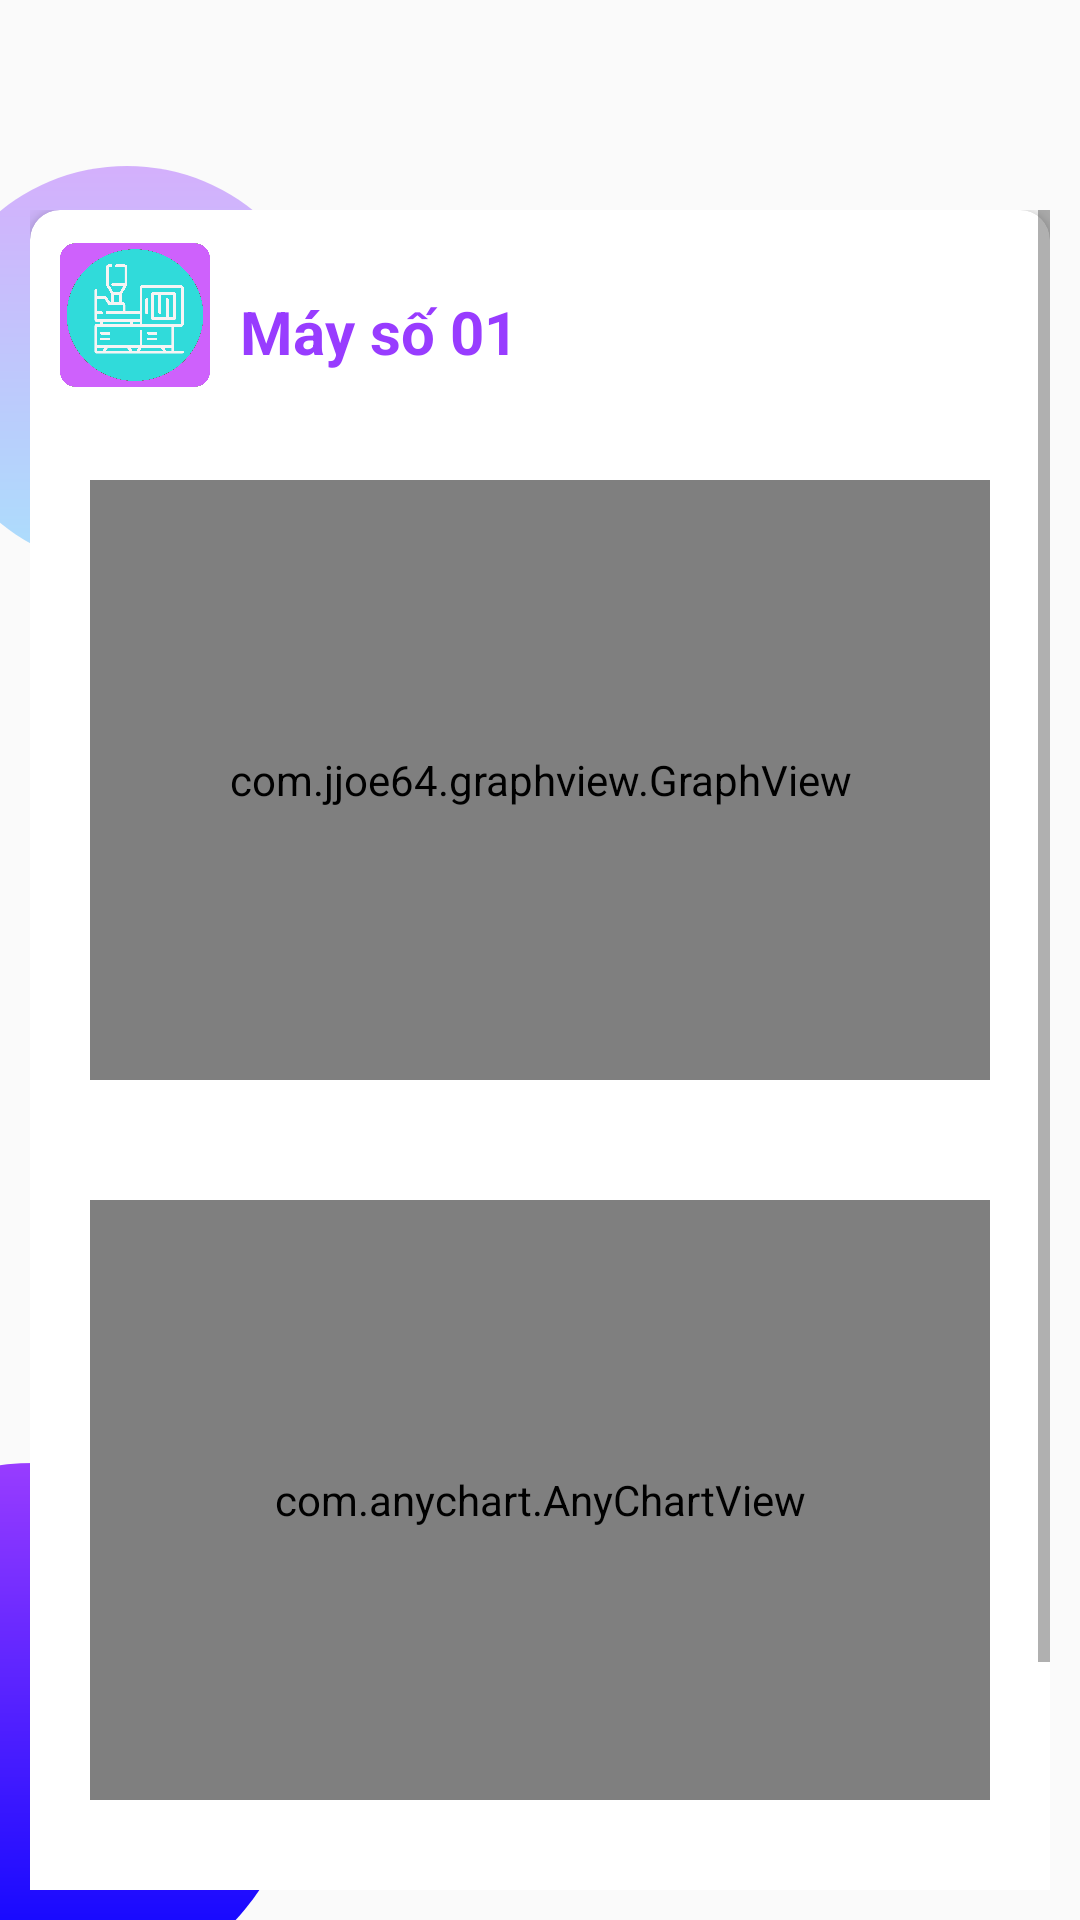

Named icons in this screenshot (1080px×1920px) and their centers, (x,y):
machine: (135,315)
